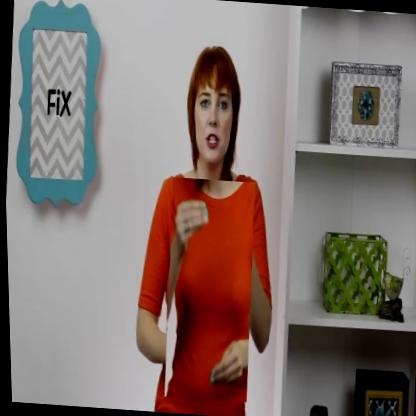Fix: (157, 177, 259, 402)
